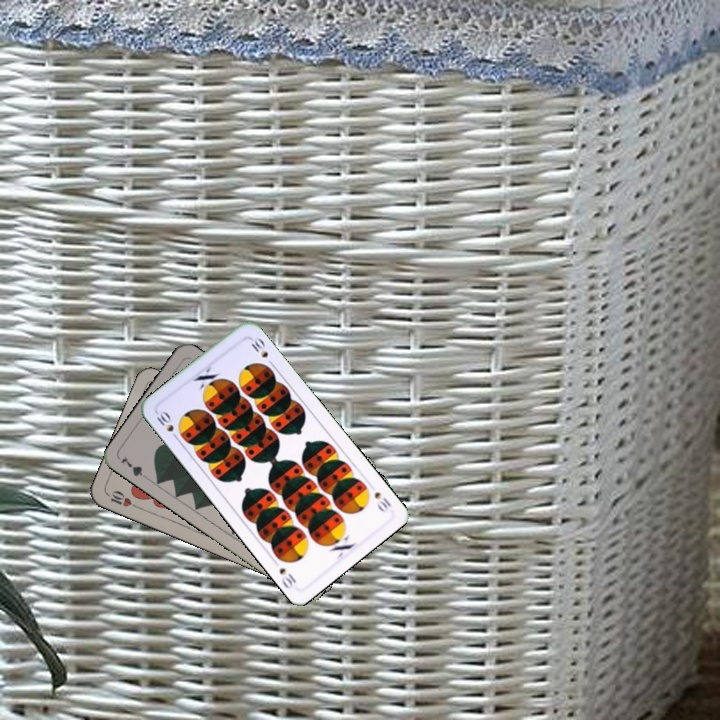G7: (116, 453, 152, 483)
H10: (104, 486, 142, 511)
S10: (152, 407, 182, 443), (370, 488, 394, 515)
